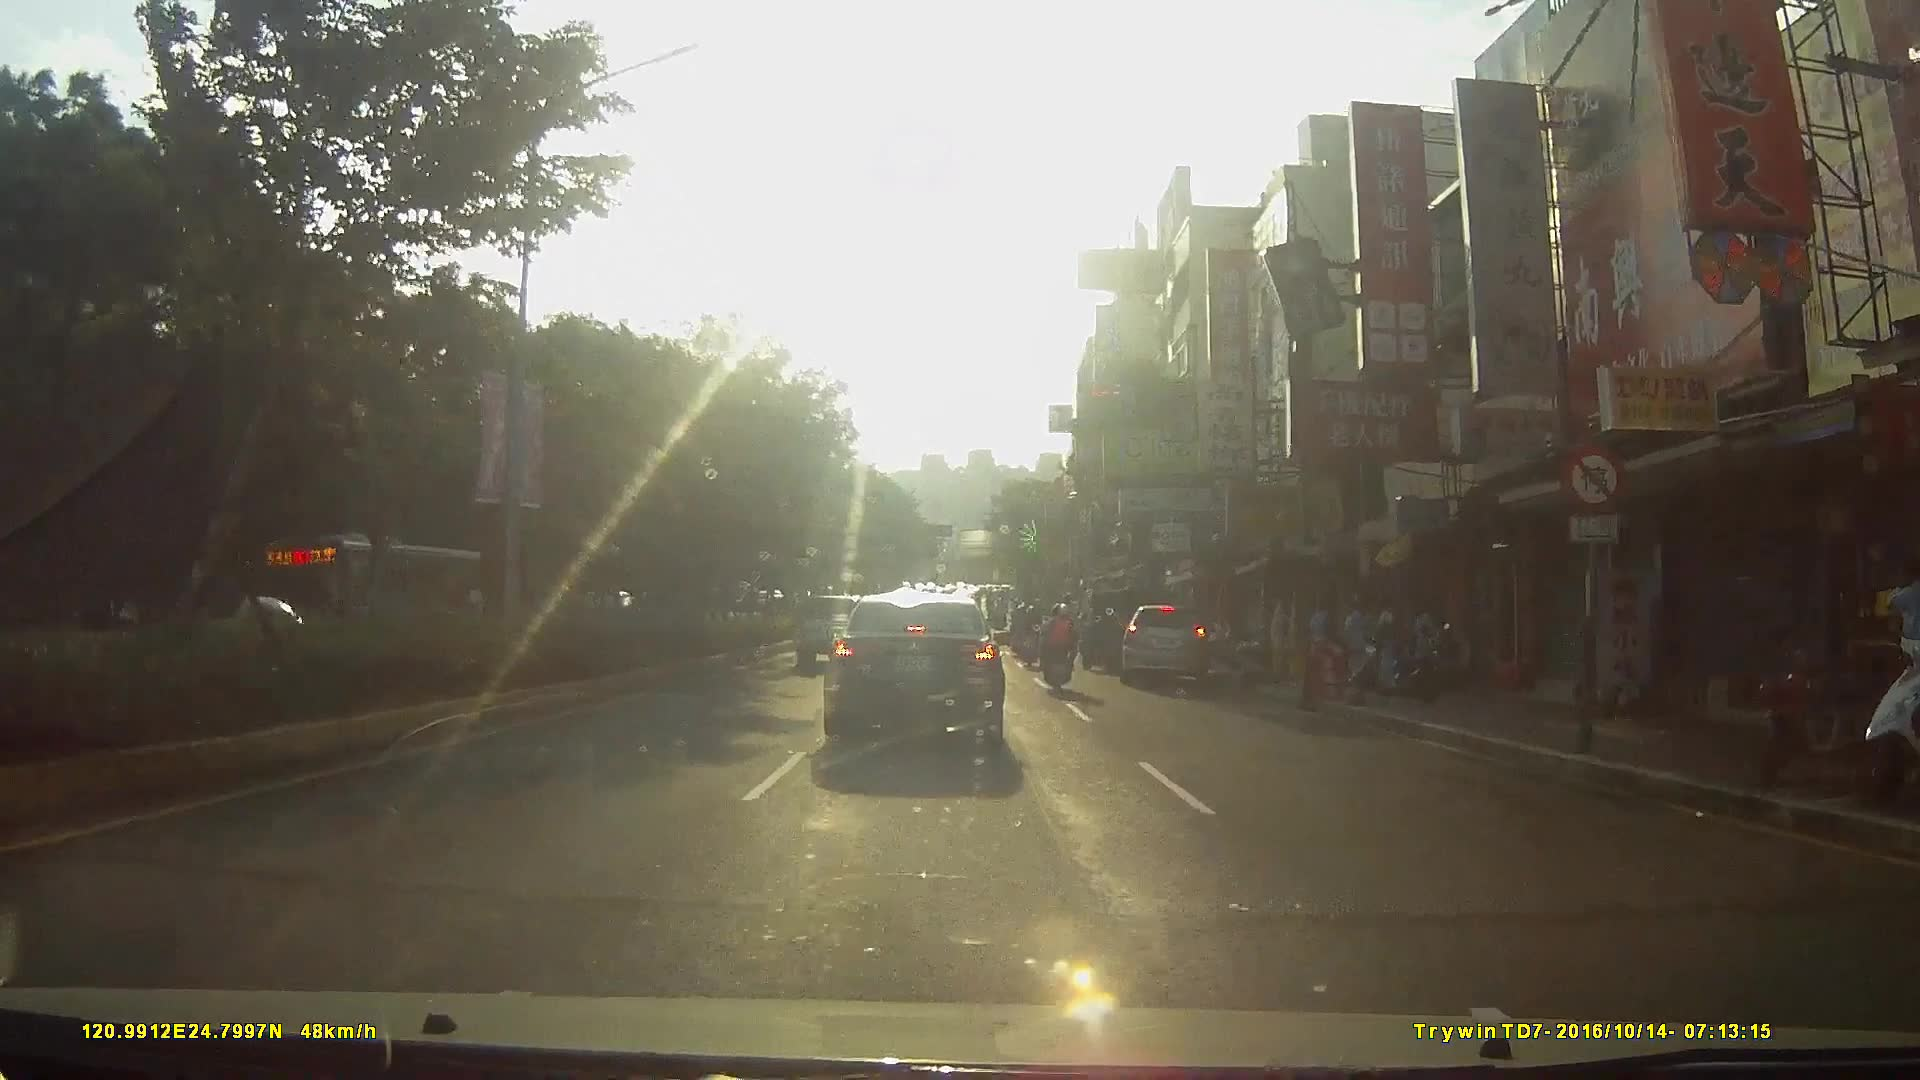pedestrian: (1876, 559, 1920, 740), (1377, 596, 1397, 657)
rider: (1043, 600, 1087, 697), (1017, 601, 1043, 667)
vehicle: (822, 588, 1030, 764), (249, 530, 484, 662), (1123, 601, 1219, 691), (1077, 578, 1161, 670)
